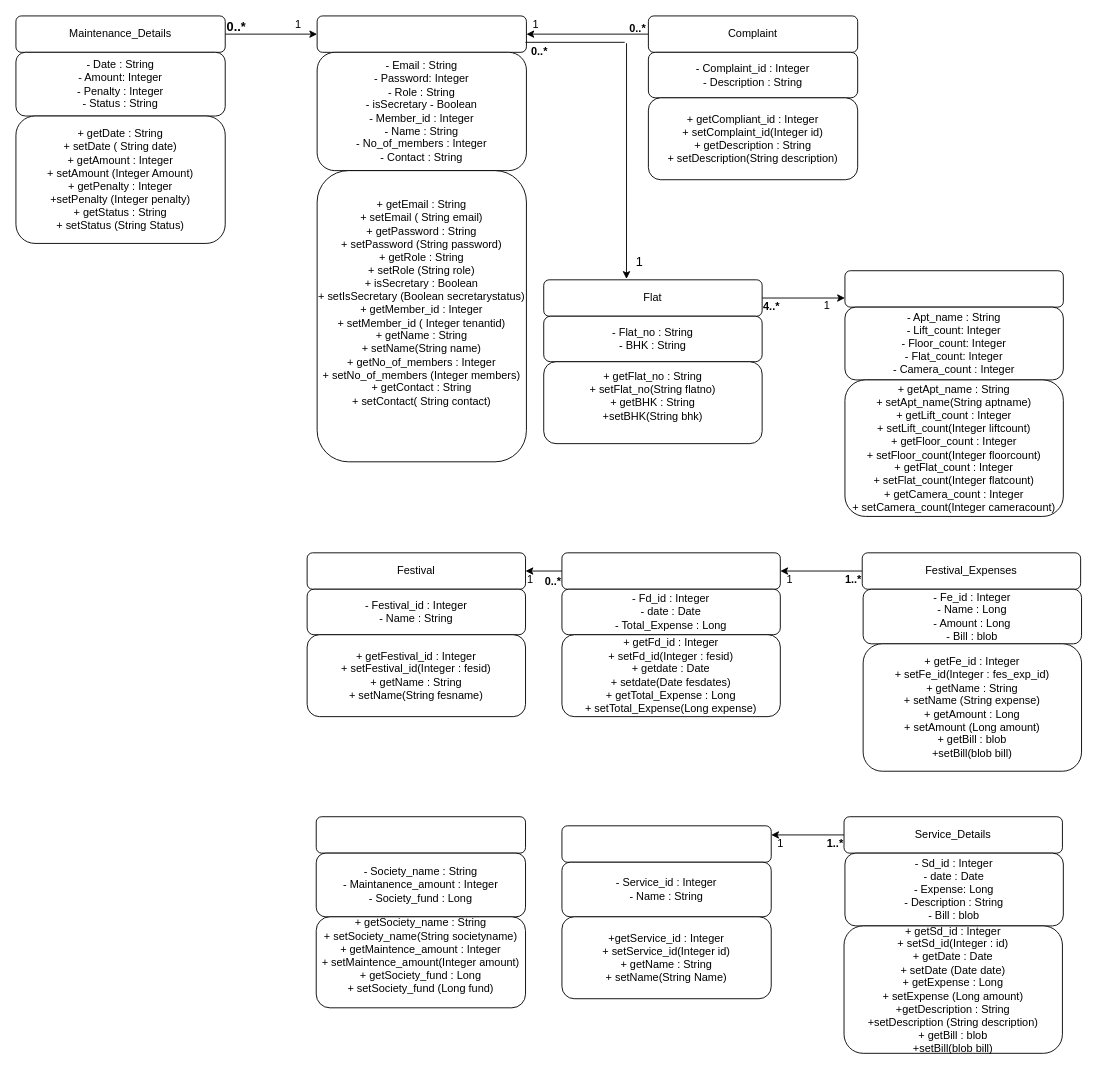
Some shapes in this 1097 by 1071 pixel diagram are drawn without their labels. The centre of each missing label's shape, as x and y in pixels:
Appartment: (953,288)
Festival_Details: (670,570)
Member: (421,33)
Service_Category: (666,843)
Society: (420,834)
